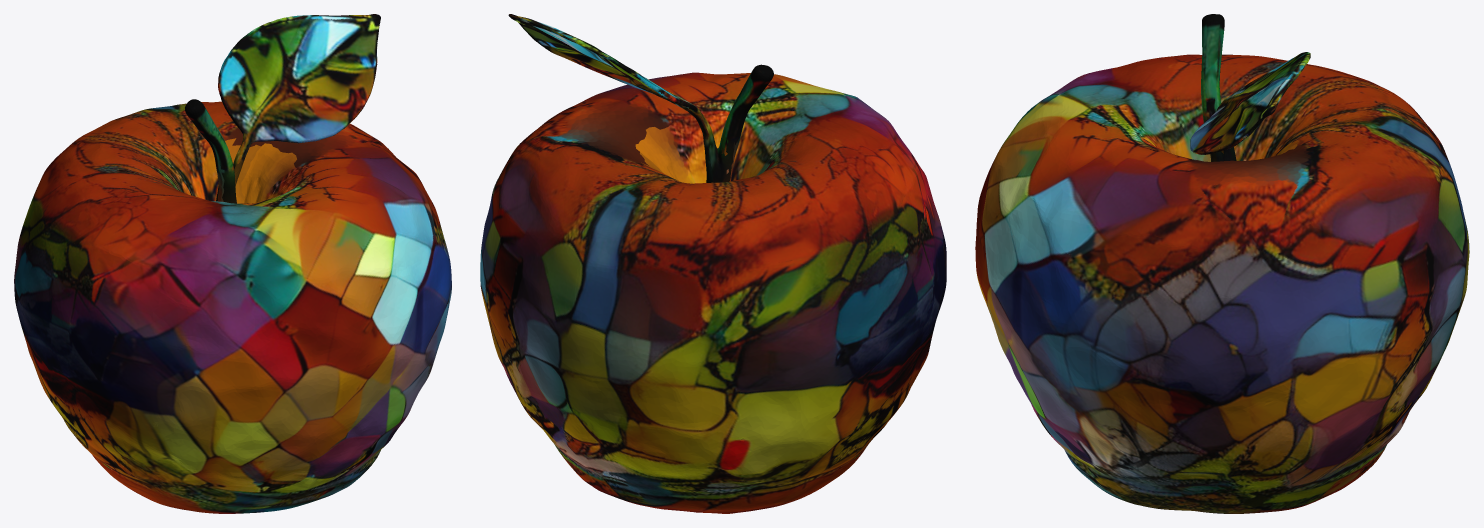
File: Aple.glb
The picture shows the model from 3 angles, left to right: view 1: azimuth 30°, elevation 25°; view 2: azimuth 150°, elevation 25°; view 3: azimuth 270°, elevation 25°; orthographic projection. The views are drawn at different scales.
Parts seen in each view (by area): view 1: temp_mesh.ply; view 2: temp_mesh.ply; view 3: temp_mesh.ply.
Part boxes in pixels (x1=…): temp_mesh.ply: x1=14, y1=14, x2=451, y2=513; temp_mesh.ply: x1=480, y1=14, x2=946, y2=513; temp_mesh.ply: x1=975, y1=14, x2=1469, y2=513.
Size of the model in its own units: 0.0194 by 0.0196 by 0.0197.
1 material, 1 textured.
